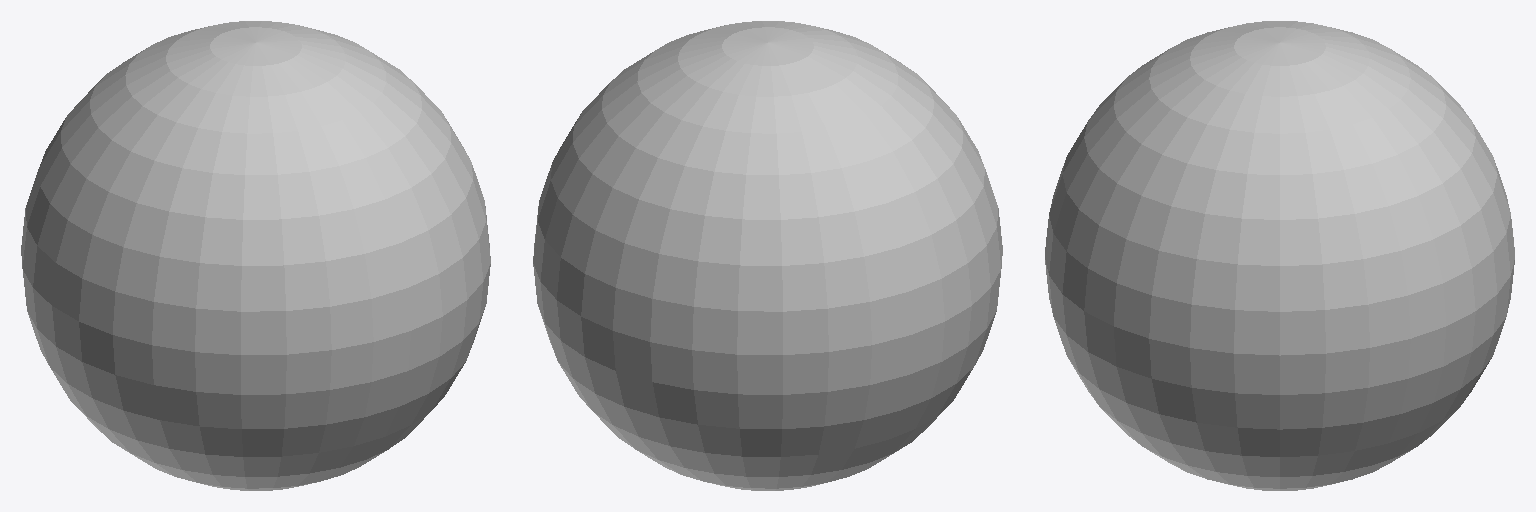
The model's file is sky.obj.
The picture shows the model from 3 angles: view 1: azimuth 30°, elevation 25°; view 2: azimuth 150°, elevation 25°; view 3: azimuth 270°, elevation 25°; orthographic projection.
Visible parts, largest first — view 1: sky; view 2: sky; view 3: sky.
Part boxes in pixels (x1,y1,x2,y2): sky: (21, 21, 490, 490); sky: (533, 21, 1002, 490); sky: (1045, 21, 1514, 490).
Bounding box in the file's own units: 2 × 2 × 2.